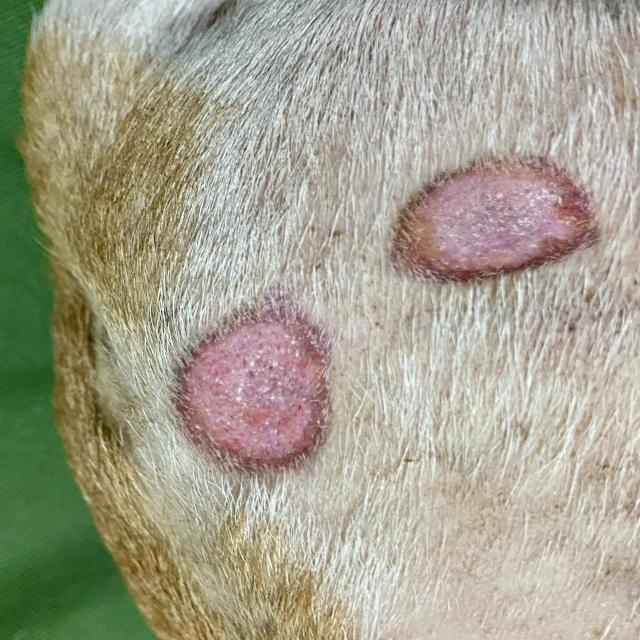ringworm: (135, 298, 373, 490), (368, 143, 608, 291)
